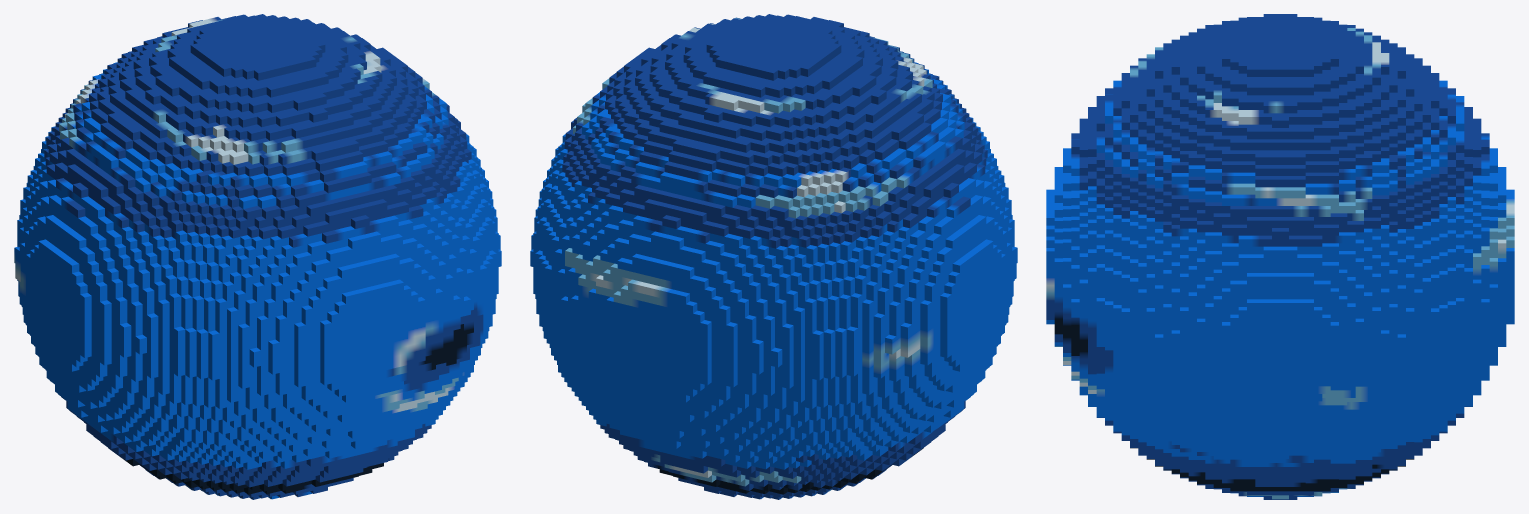
The model's file is Neptune.fbx.
The picture shows the model from 3 angles, left to right: view 1: azimuth 30°, elevation 25°; view 2: azimuth 150°, elevation 25°; view 3: azimuth 270°, elevation 25°; orthographic projection.
Visible parts, largest first — view 1: Neptune; view 2: Neptune; view 3: Neptune.
Part boxes in pixels (box(x1,y1,x2,y2)): Neptune: box(14, 14, 501, 499); Neptune: box(530, 14, 1017, 499); Neptune: box(1046, 14, 1514, 499).
Size of the model in its own units: 56 by 56 by 56.
Materials: 1 (1 with a texture image).
